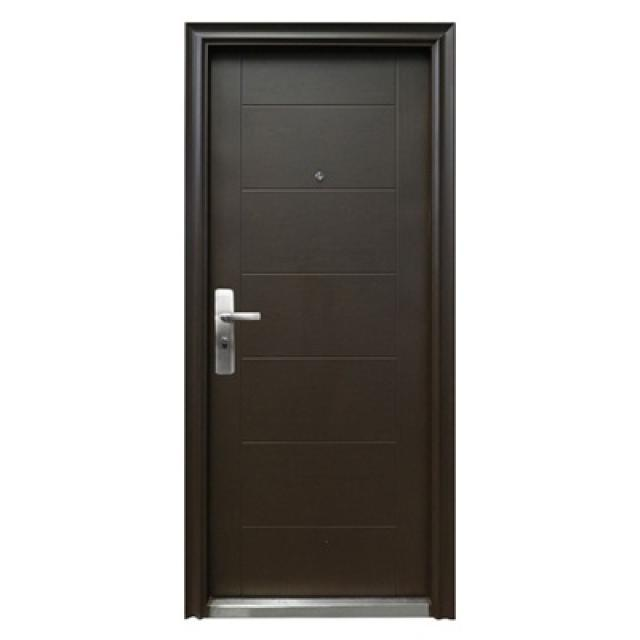door: (187, 24, 456, 619)
